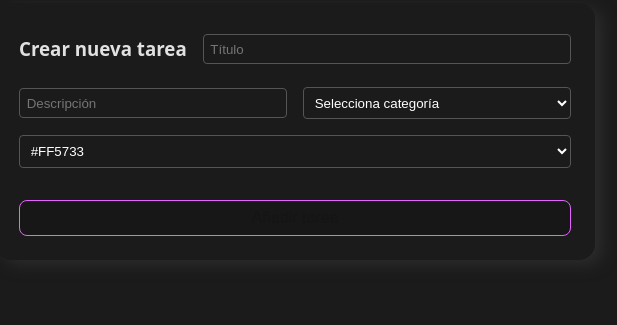
Test: TaskForm Component › muestra errores si se envía el formulario con datos inválidos
Type "abc" into the field with placeholder "Título" at (387, 49), box 203,34 -> 571,64
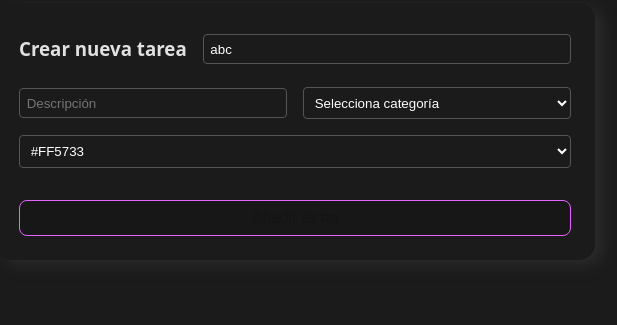
Type "desc" into the field with placeholder "Descripción" at (153, 103), box 19,88 -> 287,118
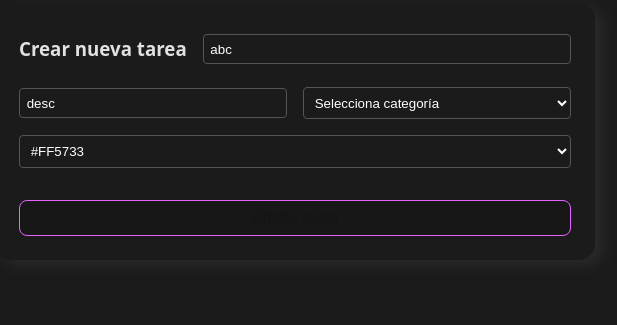
Select "Trabajo" in the dropdown named "Categoría" at (437, 103), box 303,87 -> 571,119
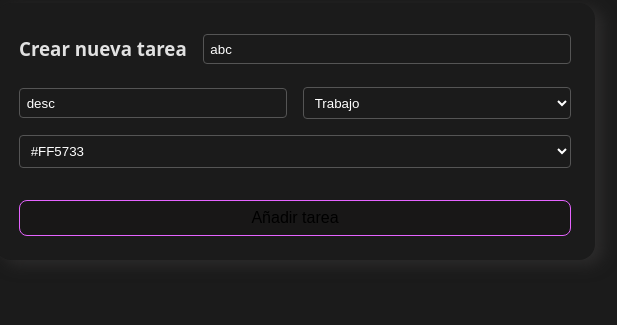
Click the button "Añadir tarea" at (295, 218), box 19,200 -> 571,236
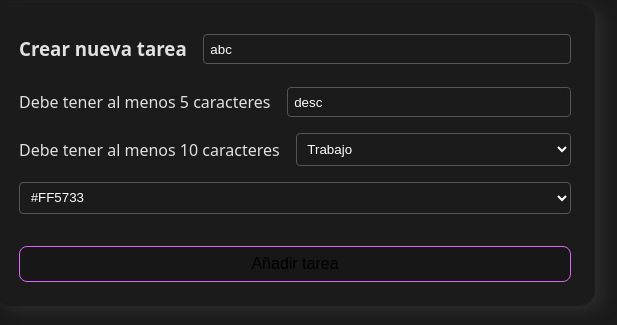
Check: the text "Debe tener al menos 5 caracteres" is shown, box 19,90 -> 270,114
Check: the text "Debe tener al menos 10 caracteres" is shown, box 19,138 -> 280,162
